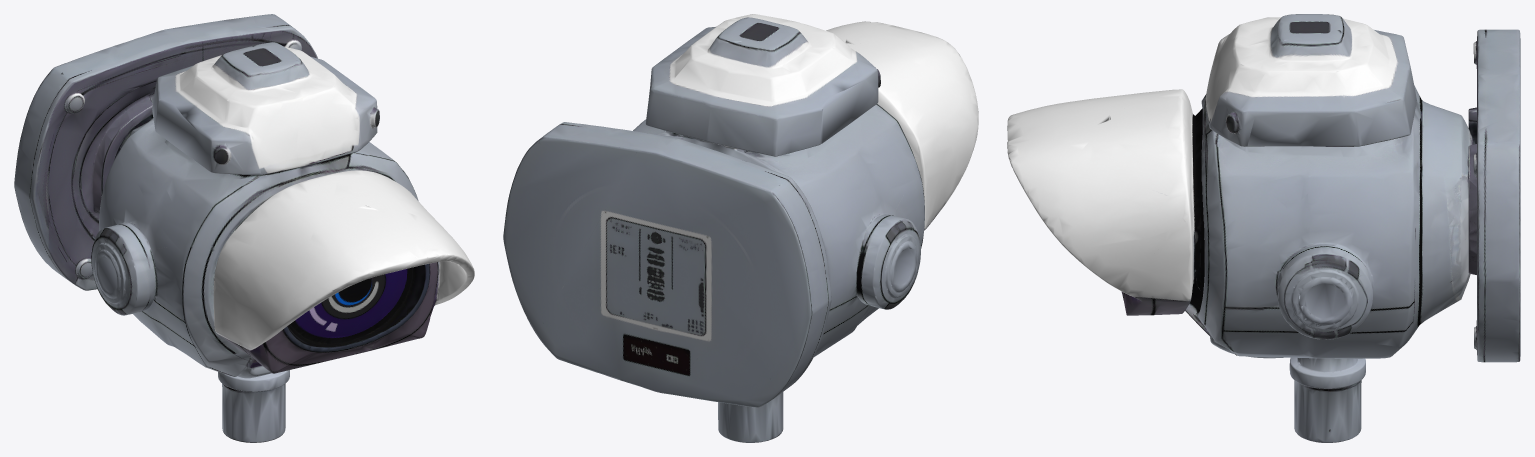
The model's file is camhead2.glb.
3 renders of one model, left to right at view 1: azimuth 30°, elevation 25°; view 2: azimuth 150°, elevation 25°; view 3: azimuth 270°, elevation 25°, orthographic. The views are drawn at different scales.
Size of the model in its own units: 1.36 by 1.64 by 1.9.
1 material, 1 textured.
